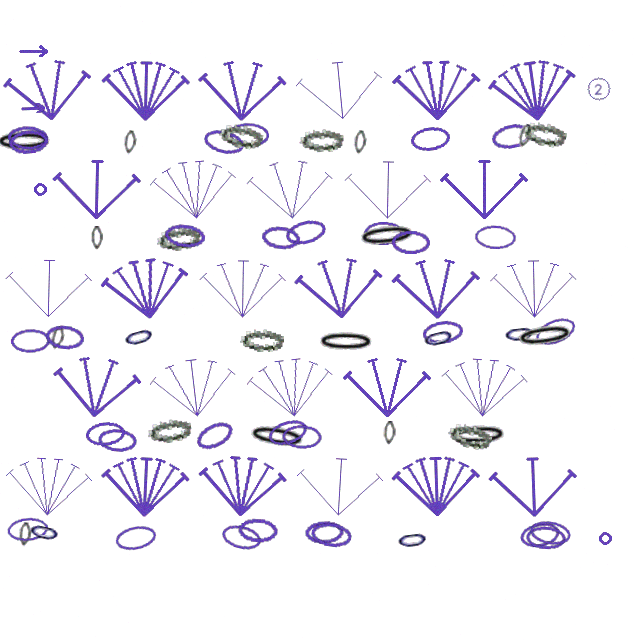chain: (514, 320, 576, 352), (246, 421, 308, 453), (356, 221, 418, 251), (192, 416, 238, 455), (532, 313, 579, 350), (448, 422, 509, 449), (265, 415, 311, 450), (446, 420, 494, 452), (283, 216, 328, 249), (219, 521, 264, 554), (113, 522, 159, 554), (155, 223, 202, 254), (146, 415, 193, 446), (201, 126, 246, 158), (489, 120, 534, 152), (316, 330, 376, 354), (521, 119, 568, 149), (218, 121, 264, 151), (518, 519, 562, 550), (0, 129, 54, 154), (528, 518, 572, 548), (309, 520, 353, 549), (409, 124, 452, 153), (421, 318, 464, 347), (163, 222, 206, 250), (120, 321, 158, 352), (260, 224, 302, 252), (44, 323, 86, 351), (299, 127, 344, 153), (84, 420, 127, 447), (6, 516, 49, 543), (420, 322, 457, 353), (7, 128, 49, 155), (474, 224, 517, 250), (26, 517, 63, 547), (97, 427, 138, 454), (525, 525, 567, 551), (237, 517, 278, 543), (240, 328, 284, 352), (281, 424, 323, 449), (7, 125, 48, 150), (228, 122, 269, 147), (10, 328, 51, 353), (304, 520, 345, 545), (363, 221, 403, 245), (391, 230, 431, 254), (502, 320, 537, 347), (395, 526, 430, 553), (516, 123, 534, 149), (49, 325, 66, 351), (123, 130, 137, 155), (353, 130, 367, 155), (18, 522, 32, 547), (383, 421, 396, 445), (91, 226, 103, 250)
fan: (485, 50, 582, 128), (98, 248, 194, 326), (146, 348, 242, 424), (243, 348, 339, 424), (1, 51, 96, 126), (293, 51, 387, 126), (50, 348, 144, 423), (147, 151, 241, 225), (293, 250, 386, 323), (196, 448, 289, 521), (244, 152, 337, 224), (438, 350, 531, 422), (3, 449, 95, 521), (294, 449, 386, 521), (197, 54, 288, 124), (391, 252, 482, 322), (100, 450, 191, 520), (488, 450, 579, 520), (391, 450, 482, 519), (392, 54, 482, 123), (52, 153, 142, 222), (4, 252, 94, 321), (101, 55, 191, 123), (343, 154, 433, 222), (198, 253, 288, 321), (489, 253, 579, 321), (440, 154, 529, 221), (343, 352, 432, 419)
noise: (585, 75, 612, 102), (18, 45, 50, 57), (597, 530, 614, 547), (20, 103, 47, 113), (32, 181, 48, 197)
